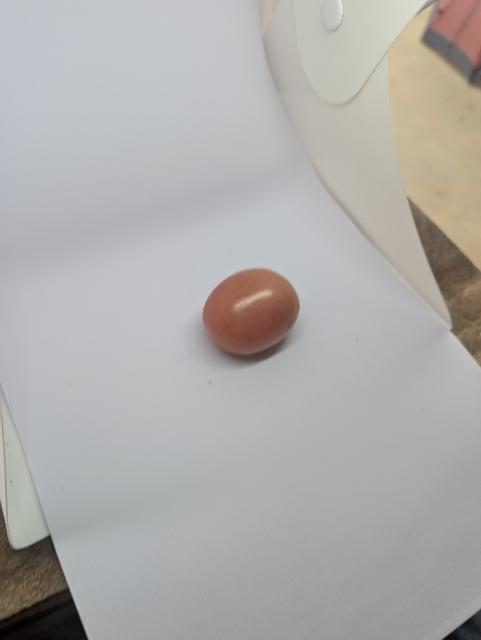red: (194, 259, 307, 363)
